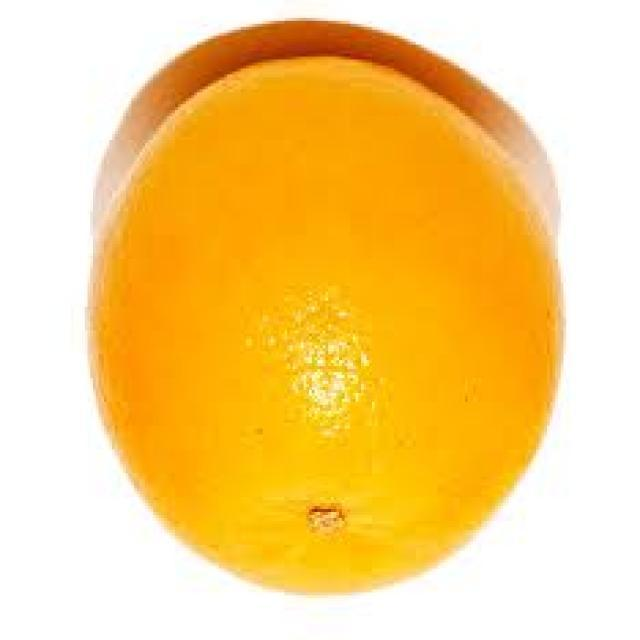Orange: (49, 18, 599, 628)
